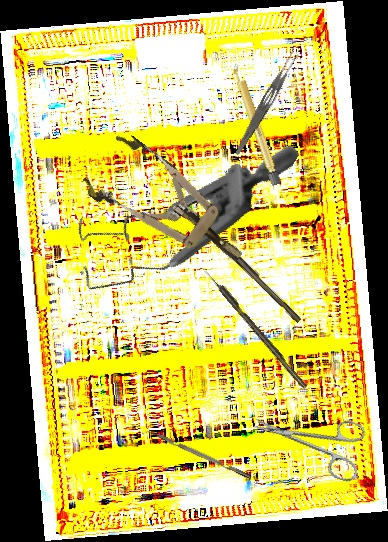Chopper: (141, 425, 251, 485)
Dressing Forceps: (232, 48, 302, 159)
Hook Surgical: (203, 266, 308, 391)
Iris Scissors: (246, 393, 372, 484)
Scalpel Handle: (198, 220, 305, 324), (230, 60, 282, 188)
Speculum: (51, 72, 301, 348), (77, 127, 261, 289)
